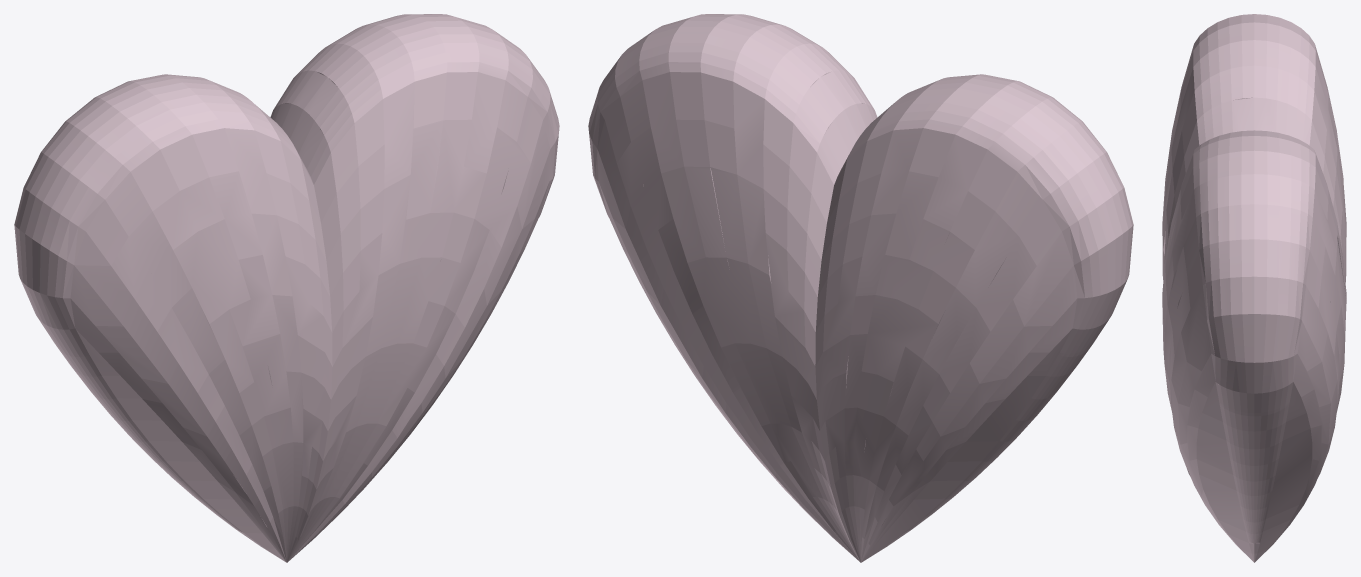
The model's file is CORAZON.glb.
3 renders of one model, left to right at view 1: azimuth 30°, elevation 25°; view 2: azimuth 150°, elevation 25°; view 3: azimuth 270°, elevation 25°, orthographic. The views are drawn at different scales.
Parts seen in each view (by area): view 1: SketchUp; view 2: SketchUp; view 3: SketchUp.
Part boxes in pixels (box(x1,y1,x2,y2)): SketchUp: box(14, 14, 559, 562); SketchUp: box(588, 14, 1133, 562); SketchUp: box(1162, 14, 1346, 562).
Size of the model in its own units: 0.2917 by 0.27 by 0.0946.
